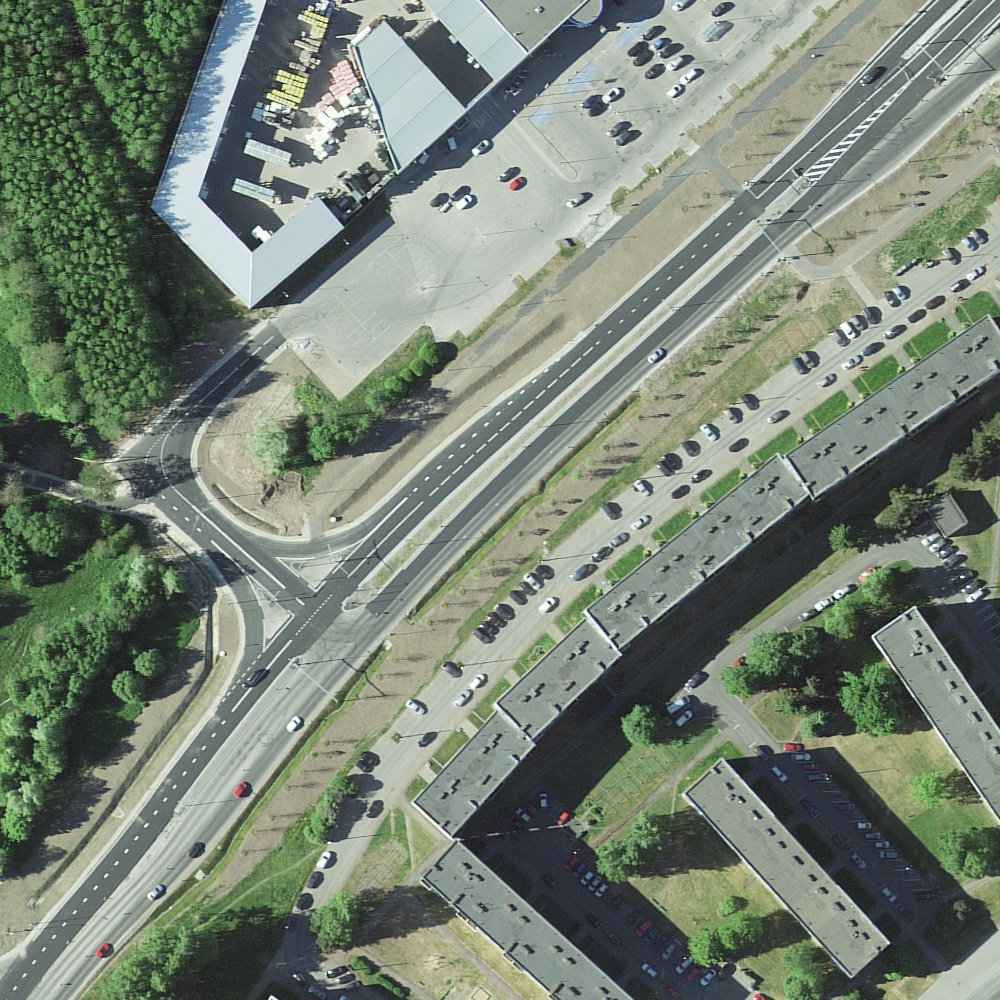building: (151, 1, 346, 309), (682, 757, 891, 978), (584, 452, 810, 650), (783, 314, 1000, 498), (422, 839, 634, 1000), (872, 606, 1000, 821), (354, 22, 469, 174), (410, 709, 538, 837), (494, 616, 623, 740), (422, 1, 603, 82), (924, 492, 969, 539)
